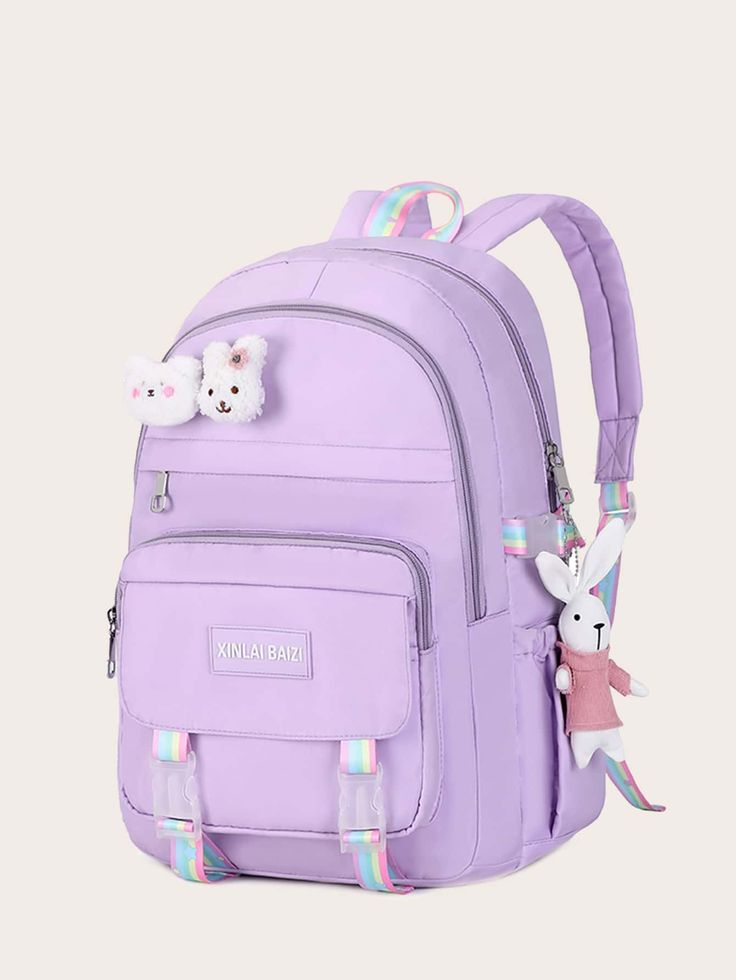nylon: (115, 190, 667, 894)
